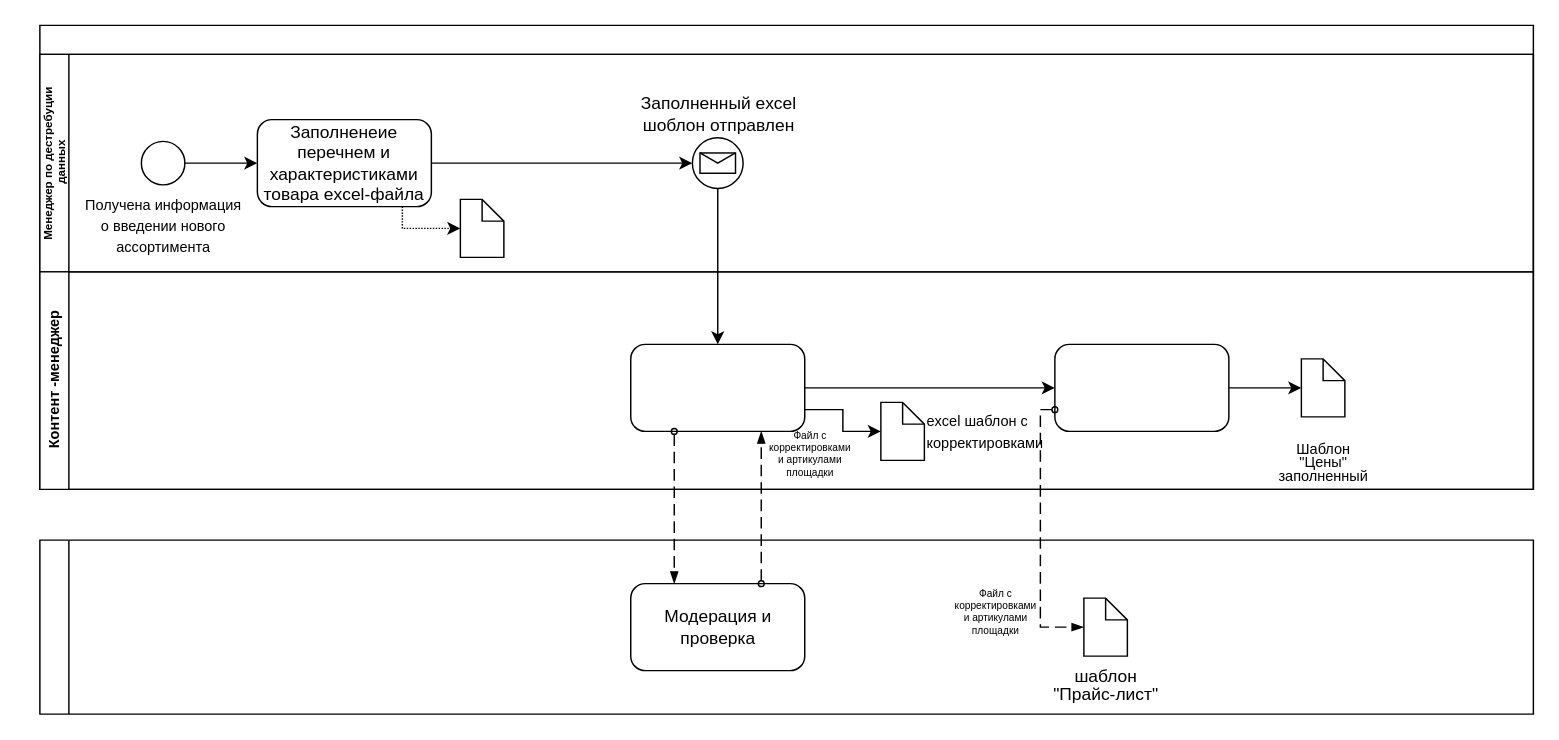
Some shapes in this 1559 by 740 pixel diagram are drawn without their labels. The box of each missing label's shape, as (x1, y1, x2, y2) in pixels:
excel шаблон заполненный: (459, 198, 504, 257)
Добавление товаров в каталог маркетплейса: (629, 343, 805, 431)
Маркетплейс: (38, 539, 1533, 714)
Подготовка цен и загрузка прайс-листа: (1053, 343, 1229, 431)
